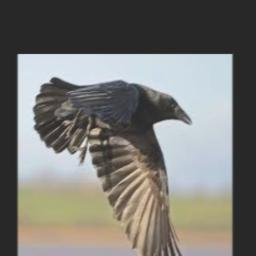Crow: (33, 78, 197, 256)
